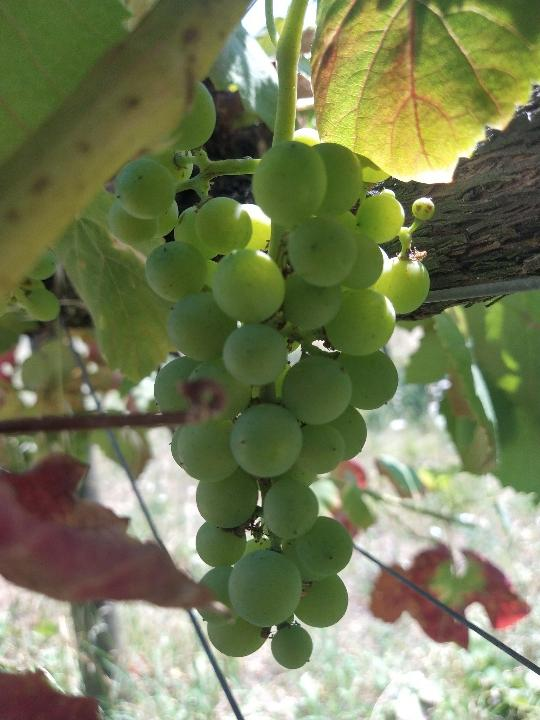grape: (109, 82, 438, 674)
